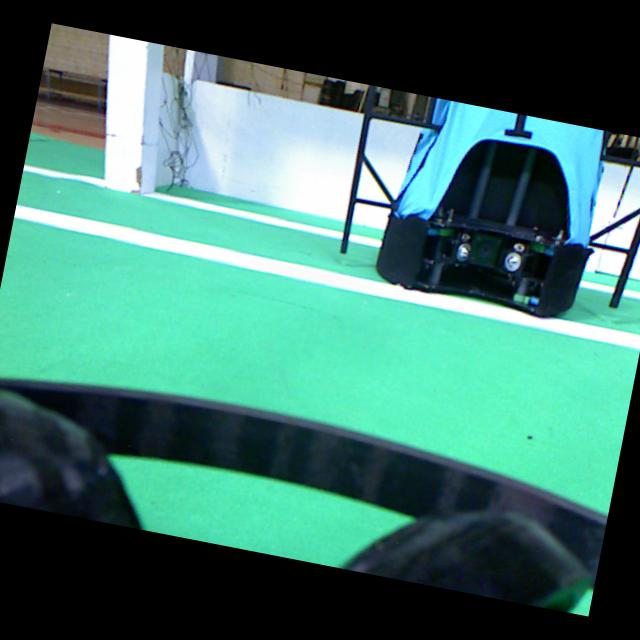goal: (104, 35, 148, 191)
